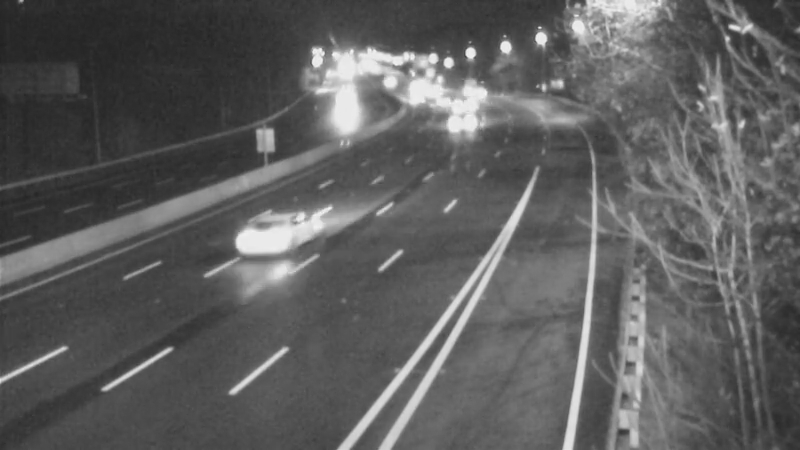vehicle: (245, 191, 325, 271), (361, 57, 411, 107), (444, 59, 494, 109), (392, 72, 442, 122), (435, 81, 485, 131), (441, 99, 491, 149), (316, 76, 366, 126)
